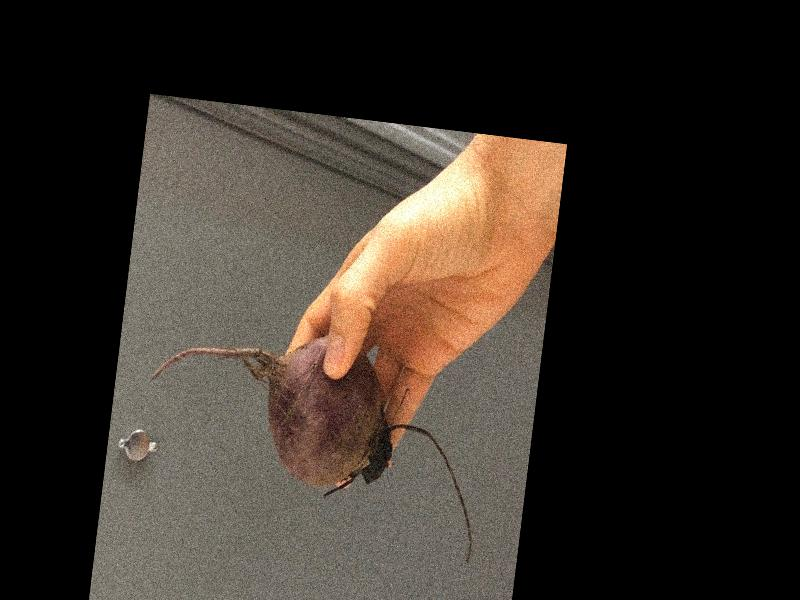Beet: (132, 315, 494, 565)
